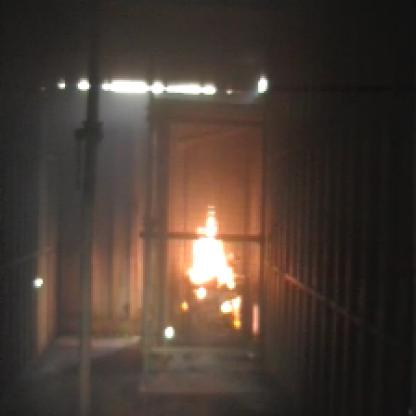Fire: (184, 202, 241, 303)
